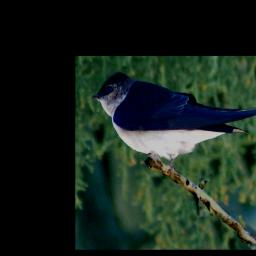Swallow: (89, 72, 256, 177)
